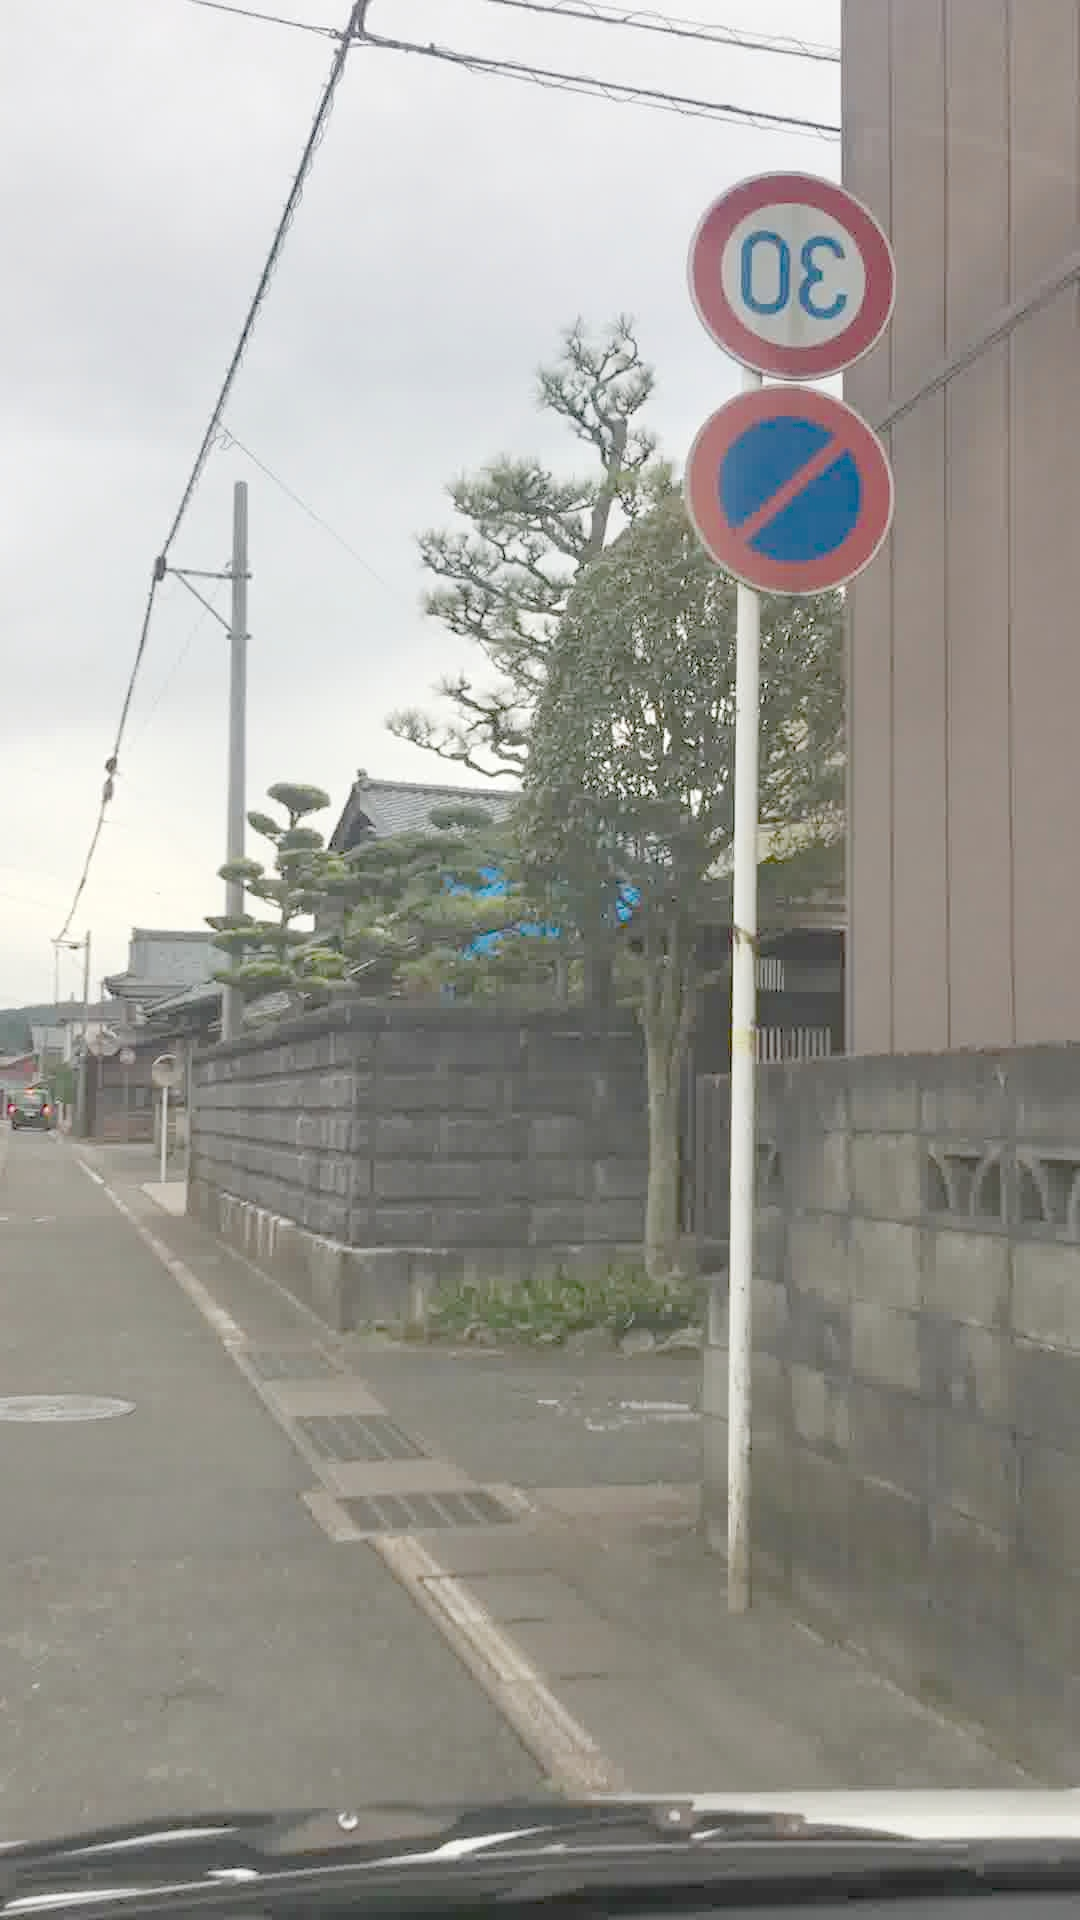Prohibition_sign: (690, 392, 920, 624)
Speed_sign: (680, 152, 918, 402)
